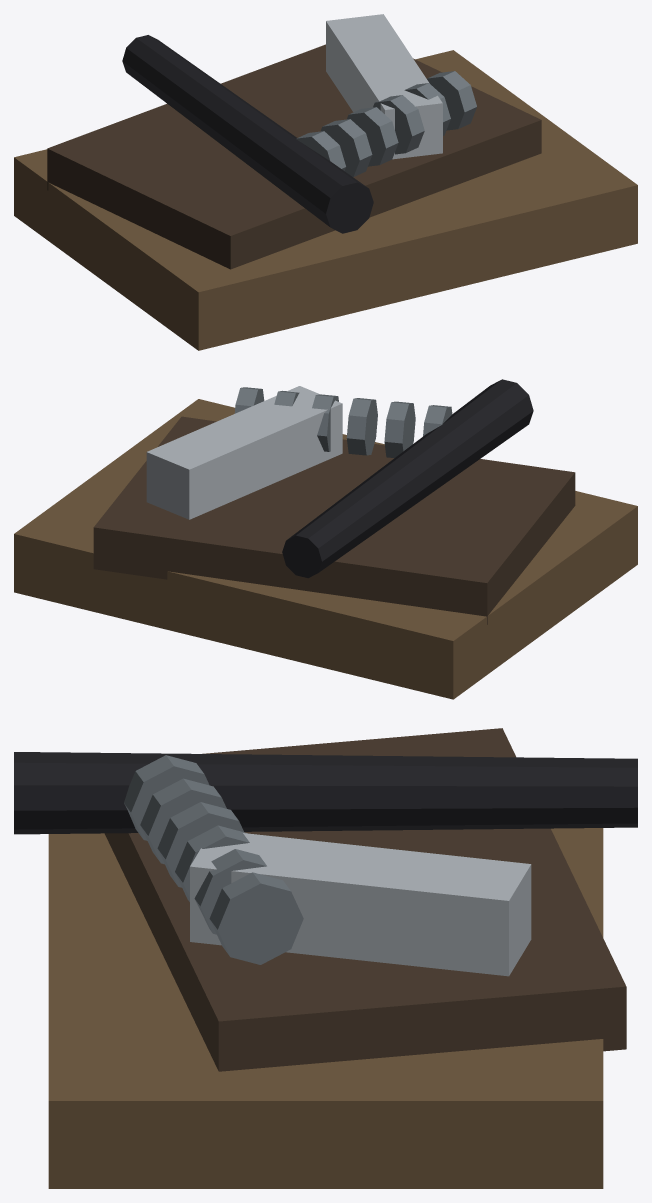
File: gun_parts.glb
The picture shows the model from 3 angles, top to bottom: view 1: azimuth 30°, elevation 25°; view 2: azimuth 150°, elevation 25°; view 3: azimuth 270°, elevation 25°; orthographic projection. The views are drawn at different scales.
Parts seen in each view (by area): view 1: gun_parts; view 2: gun_parts; view 3: gun_parts.
Boxes of the visible parts, x1,y1,x2,y2 form: gun_parts: (14,14,637,350); gun_parts: (14,379,637,699); gun_parts: (14,728,637,1188).
Bounding box in the file's own units: 0.2201 × 0.071 × 0.18.
Materials: 2 (2 with a texture image).
